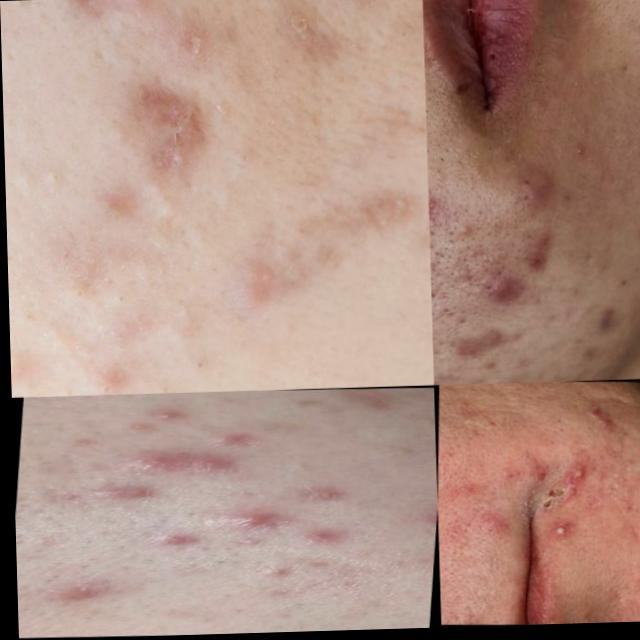8: (509, 231, 558, 285), (522, 169, 569, 218), (484, 271, 532, 315), (98, 484, 159, 509), (231, 513, 289, 539), (202, 432, 269, 454), (293, 533, 370, 549), (135, 535, 203, 549), (450, 226, 482, 248), (581, 411, 607, 427)
9: (547, 521, 581, 548), (560, 468, 594, 486)
blackheads: (308, 178, 429, 274), (124, 86, 233, 166), (100, 450, 244, 478), (581, 300, 632, 348), (448, 331, 511, 365), (143, 408, 219, 427), (427, 187, 451, 234), (561, 486, 592, 514), (567, 142, 599, 161)
